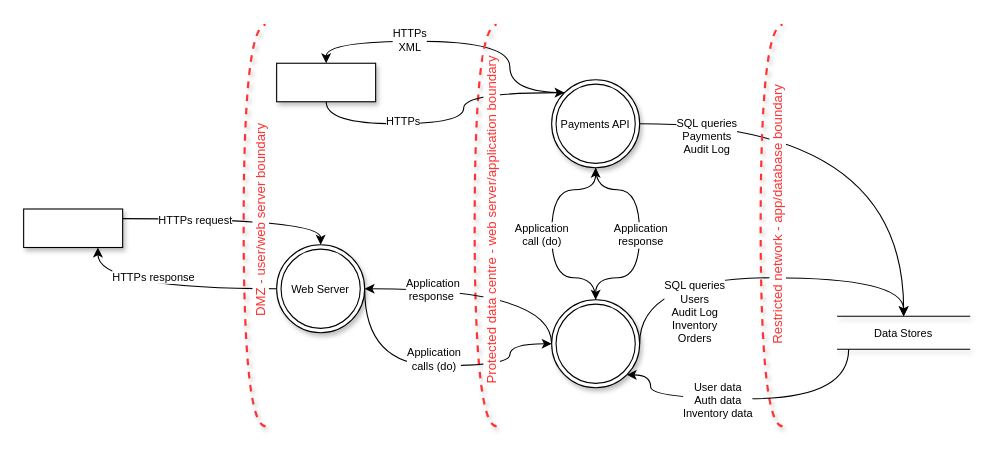
The diagram is 996 pixels wide and 453 high, and some of its shapes have lost their labels. The shapes that lost their labels are listed below. From the top down, each one's centre as x and y in pixels, then its label:
the point at 326,83: Payment Partner
the point at 73,229: User
the point at 596,344: Order Processor
